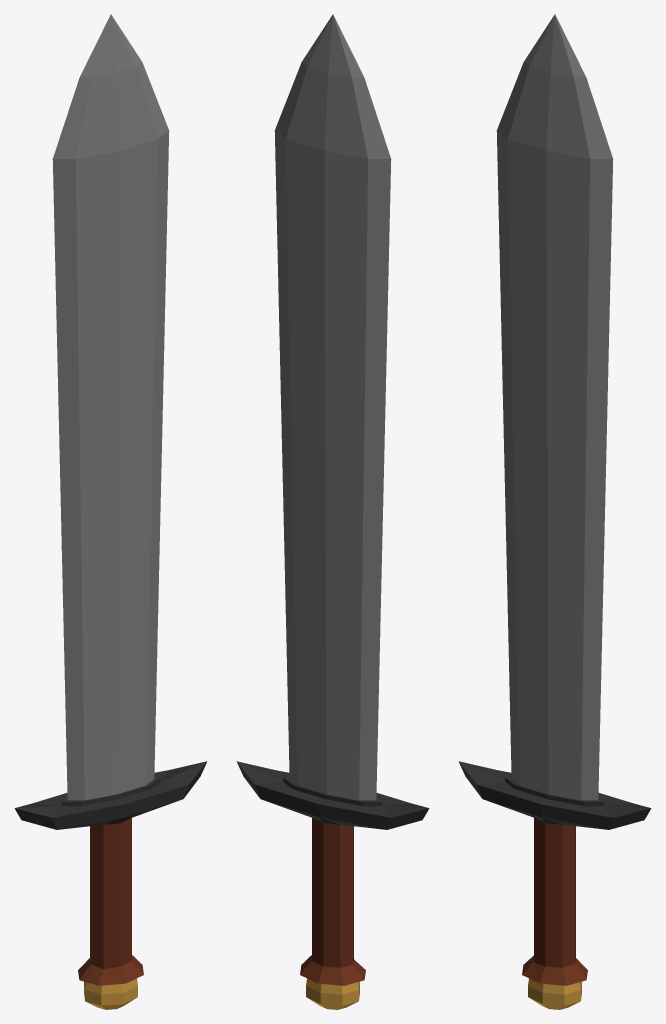
Rendered from sword1.obj.
3 renders of one model, left to right at view 1: azimuth 30°, elevation 25°; view 2: azimuth 150°, elevation 25°; view 3: azimuth 330°, elevation 25°, orthographic.
Bounding box in the file's own units: 0.3951 × 1.94 × 0.107.
